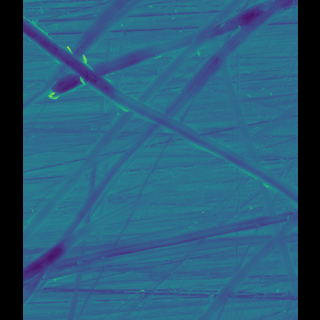Loch: (42, 110, 177, 311), (62, 0, 276, 104), (212, 150, 278, 320)
